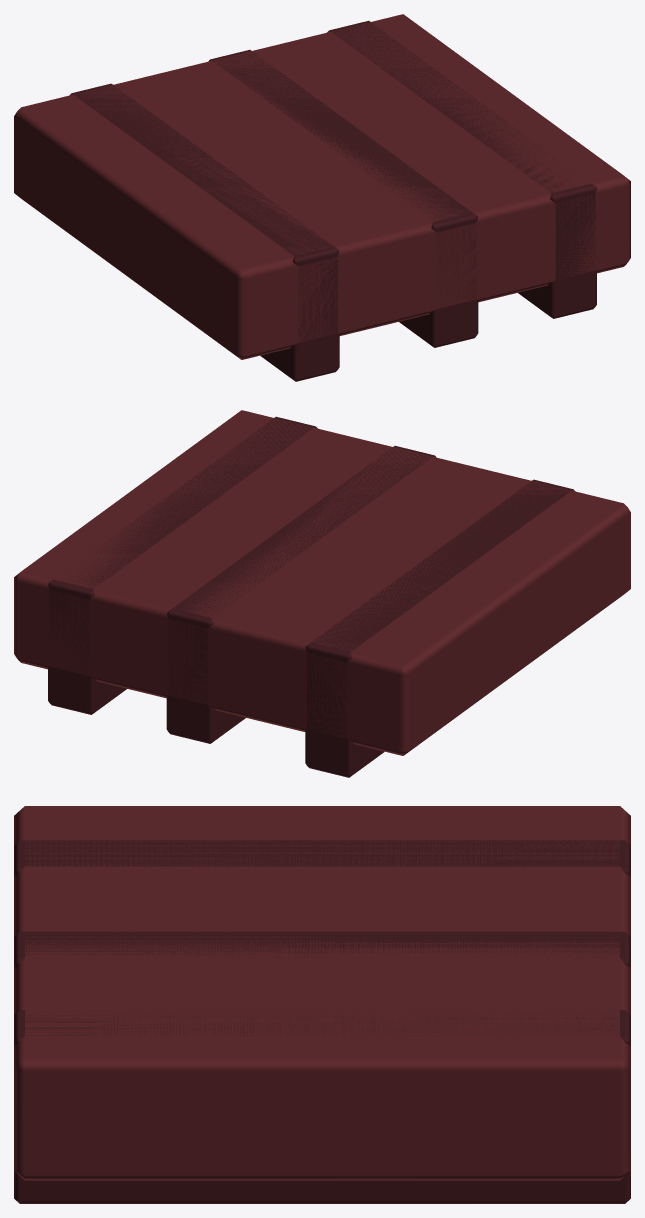
The model's file is living-cave-bridge-deck.a1c2d6bc.glb.
3 views of the same model, one above another, from view 1: azimuth 30°, elevation 25°; view 2: azimuth 150°, elevation 25°; view 3: azimuth 270°, elevation 25° (orthographic). The views are drawn at different scales.
Visible parts, largest first — view 1: body; view 2: body; view 3: body.
Boxes of the visible parts, bbox=[...] form: body: bbox=[14, 14, 630, 381]; body: bbox=[14, 410, 630, 777]; body: bbox=[14, 806, 630, 1203].
Size of the model in its own units: 1 by 0.3 by 1.
